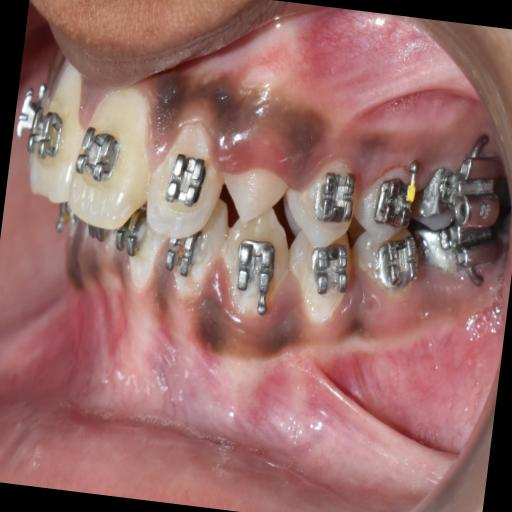correct_brace: (282, 146, 366, 258), (162, 140, 218, 214), (72, 122, 124, 188), (24, 98, 68, 164)
incorrect_brace: (142, 117, 236, 247), (314, 164, 362, 226)
